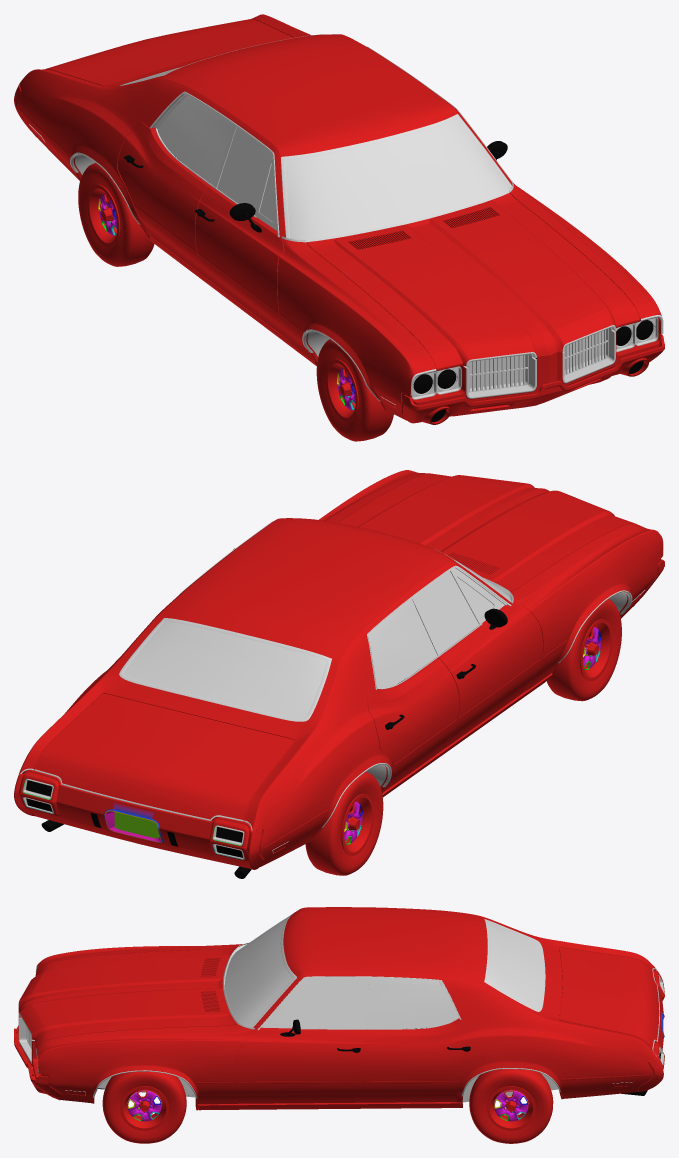
File: Classic Sedan.fbx
3 renders of one model, top to bottom at view 1: azimuth 30°, elevation 25°; view 2: azimuth 150°, elevation 25°; view 3: azimuth 270°, elevation 25°, orthographic. The views are drawn at different scales.
Parts seen in each view (by area): view 1: body1, pPlane2, wheels1, wheels2, light; view 2: body1, pPlane2, wheels1, wheels2, light; view 3: body1, pPlane2, wheels, wheels3.
Part boxes in pixels (left/top/right/bottom): body1: left=14, top=14, right=664, bottom=424; pPlane2: left=75, top=68, right=603, bottom=388; wheels1: left=78, top=163, right=154, bottom=266; wheels2: left=316, top=339, right=393, bottom=441; light: left=29, top=124, right=653, bottom=422; body1: left=14, top=470, right=664, bottom=878; pPlane2: left=123, top=560, right=627, bottom=786; wheels1: left=305, top=772, right=383, bottom=875; wheels2: left=546, top=599, right=621, bottom=701; light: left=26, top=590, right=644, bottom=857; body1: left=14, top=907, right=664, bottom=1110; pPlane2: left=61, top=915, right=558, bottom=1107; wheels: left=469, top=1069, right=553, bottom=1143; wheels3: left=102, top=1071, right=186, bottom=1143.
Size of the model in its own units: 198 by 144 by 522.
